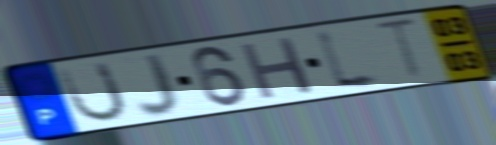6: (190, 44, 248, 109)
H: (236, 34, 318, 103)
J: (134, 51, 183, 119)
L: (311, 25, 390, 94)
T: (371, 15, 427, 83)
U: (56, 59, 130, 125)
